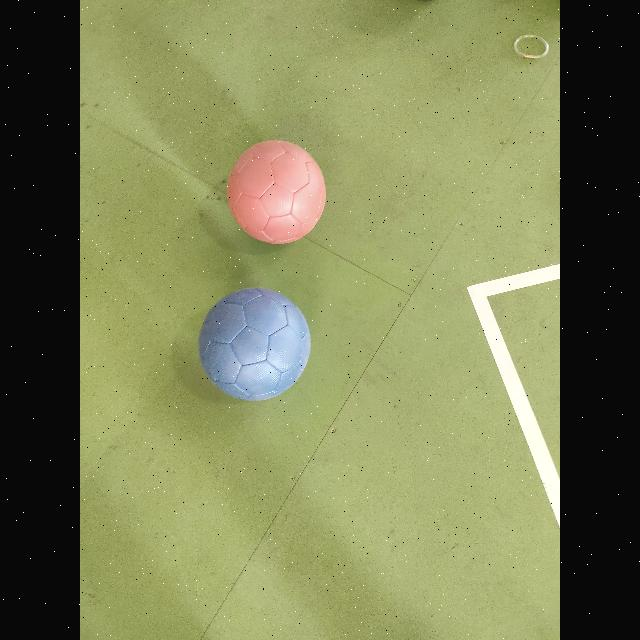B: (199, 288, 310, 401)
R: (227, 140, 326, 243)
